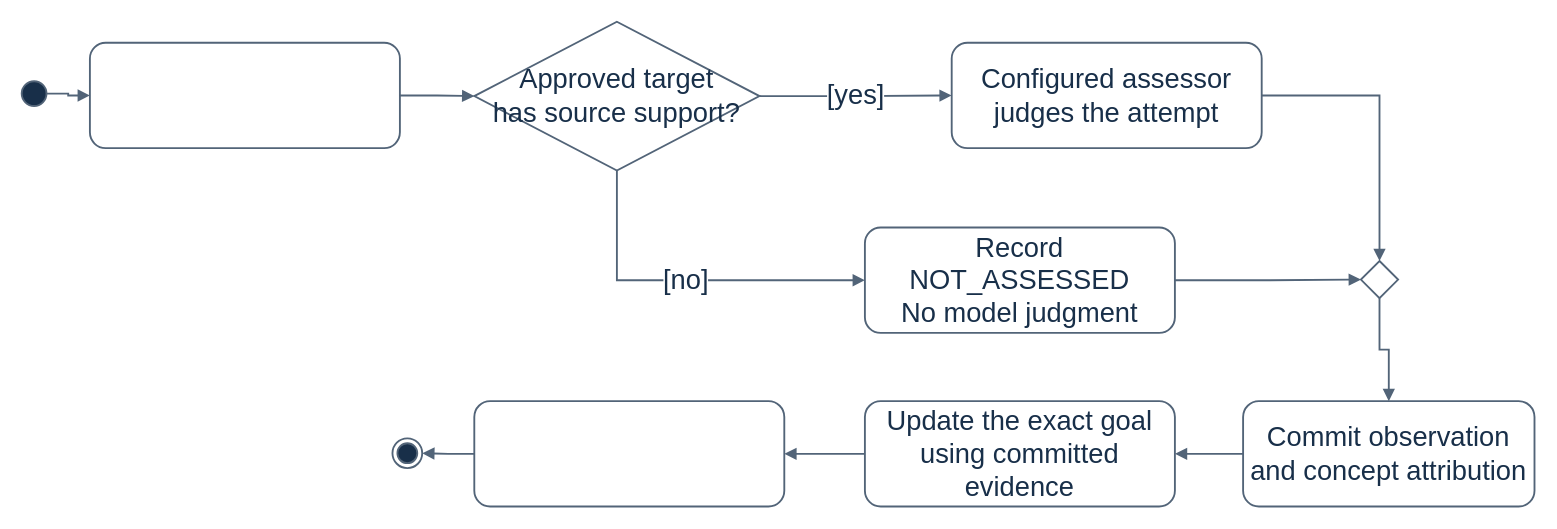
The diagram is 1557 pixels wide and 529 high, and some of its shapes have lost their labels. Here are the shapes that lost their labels. From the top down, the centre of each, then its label:
pixel 244 95: Student reply in course conversation
pixel 629 453: Keep / complete goal Consider eligible next action
